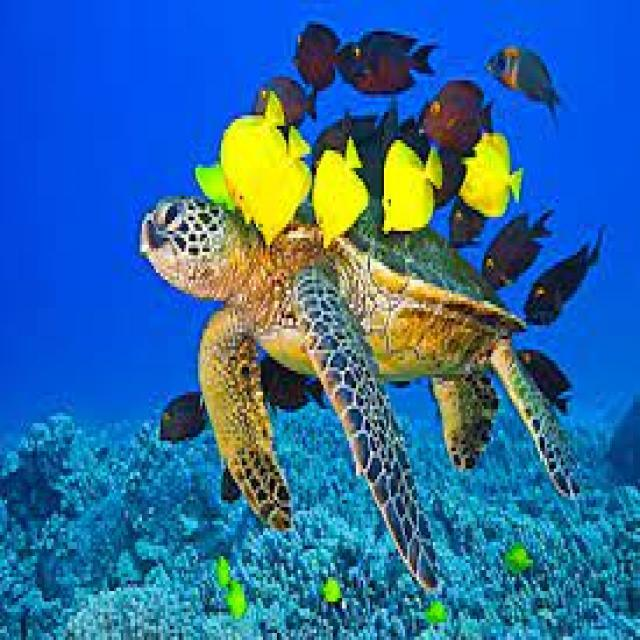YellowTang: (221, 95, 292, 235), (308, 140, 361, 250), (380, 136, 424, 240), (462, 142, 505, 213)
